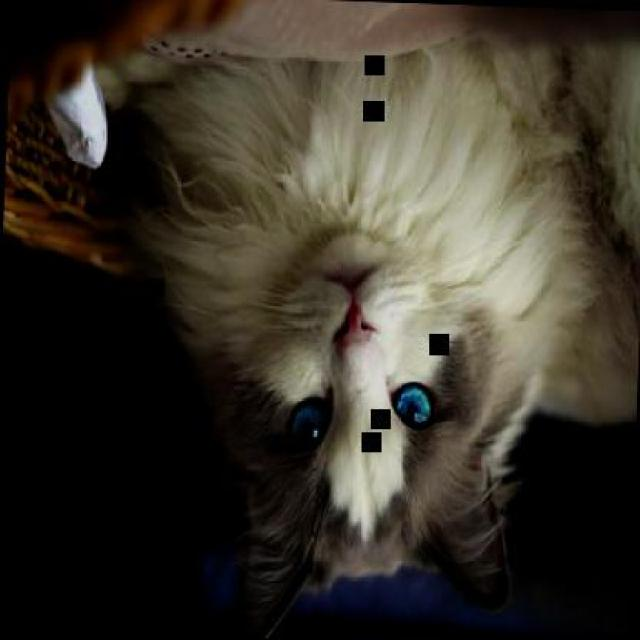cat: (146, 27, 639, 638)
